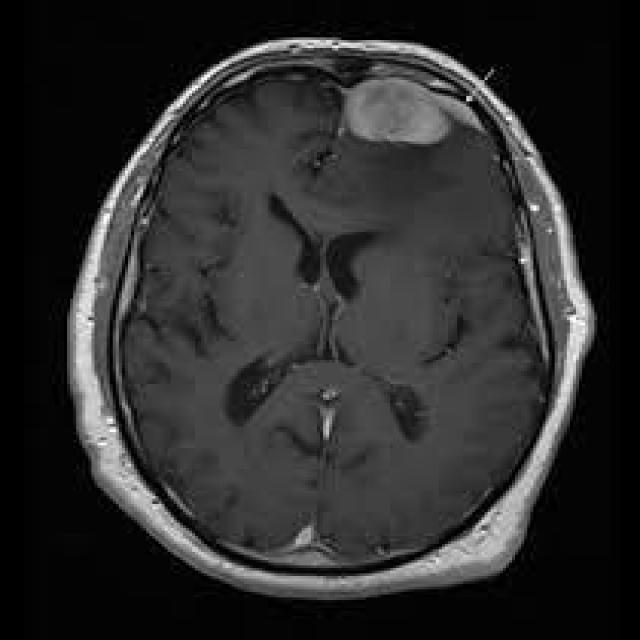Tumor: (341, 77, 491, 155)
